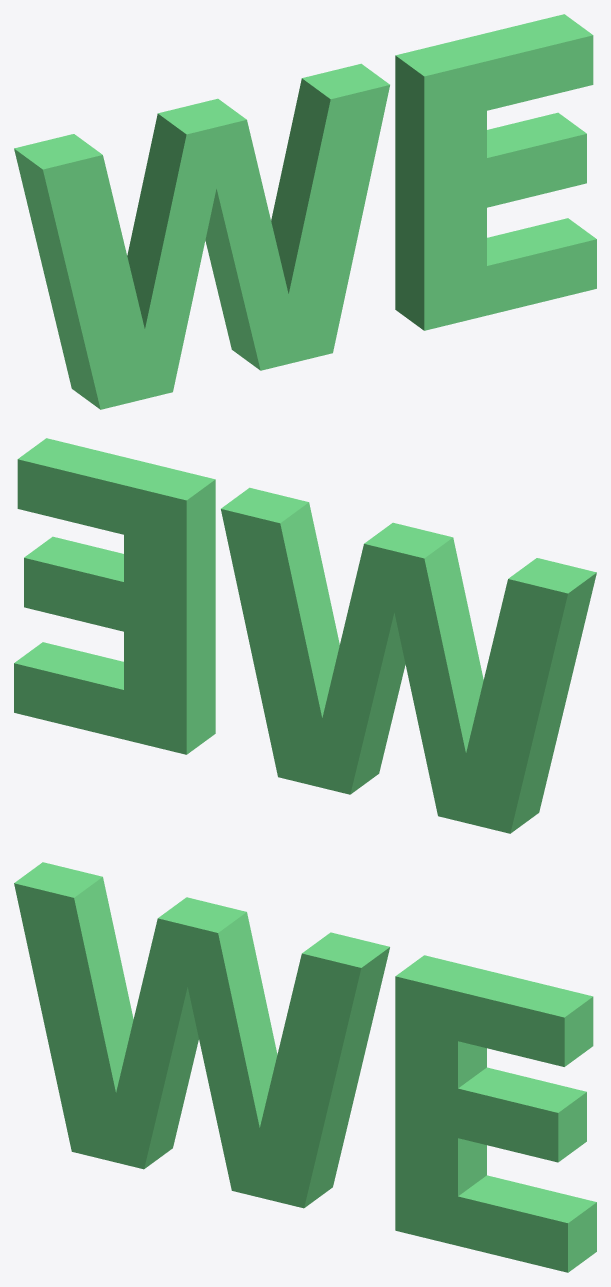
Rendered from suku_besar_we.glb.
3 views of the same model, one above another, from view 1: azimuth 30°, elevation 25°; view 2: azimuth 150°, elevation 25°; view 3: azimuth 330°, elevation 25° (orthographic).
Visible parts, largest first — view 1: geometry_0; view 2: geometry_0; view 3: geometry_0.
Boxes of the visible parts, x1=… form: geometry_0: x1=14, y1=14, x2=596, y2=409; geometry_0: x1=14, y1=438, x2=596, y2=833; geometry_0: x1=14, y1=862, x2=596, y2=1272.
Size of the model in its own units: 16.62 by 7.29 by 1.5.
